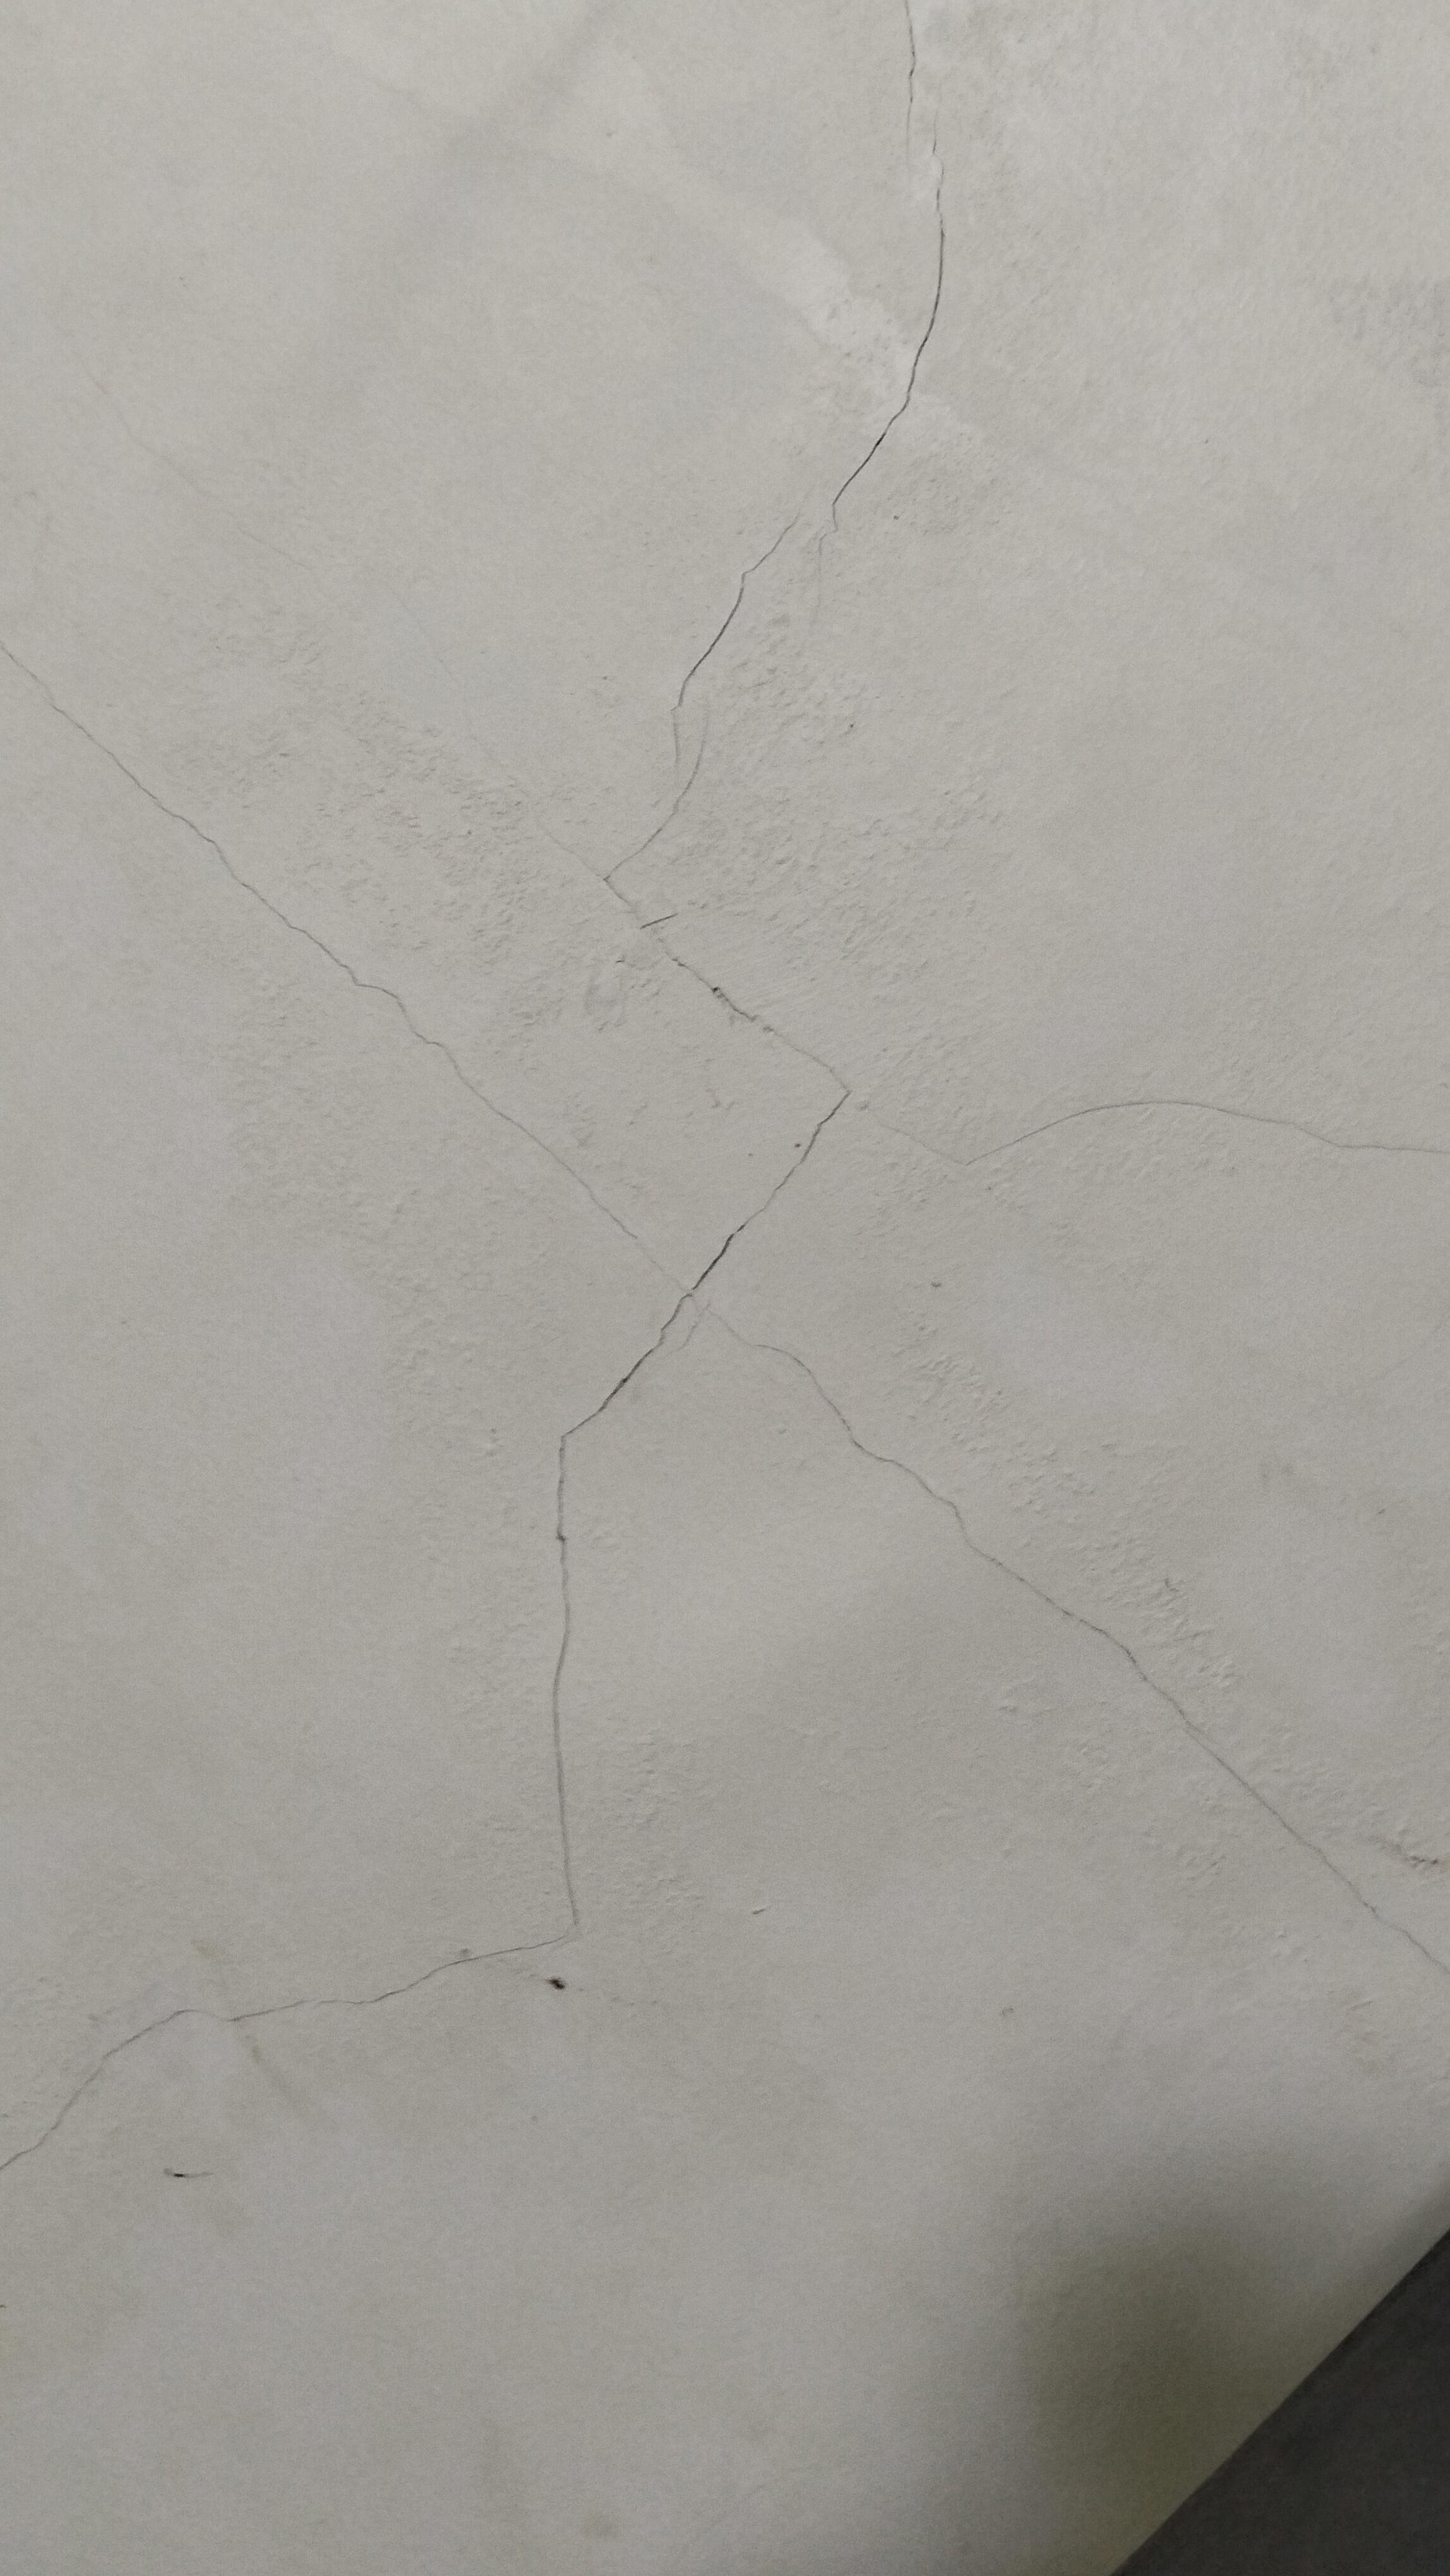Crack: (0, 1914, 554, 2180), (549, 1072, 878, 1456), (602, 531, 793, 901), (832, 9, 958, 566), (586, 874, 871, 1099), (540, 1424, 597, 1960)
